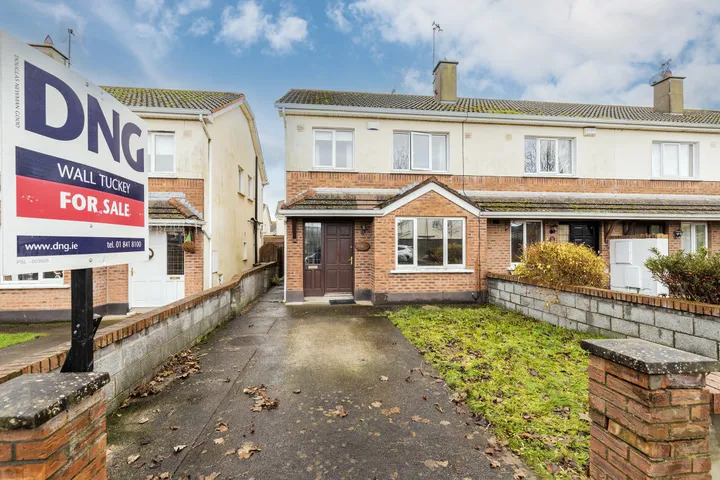property sign: (1, 25, 151, 286)
